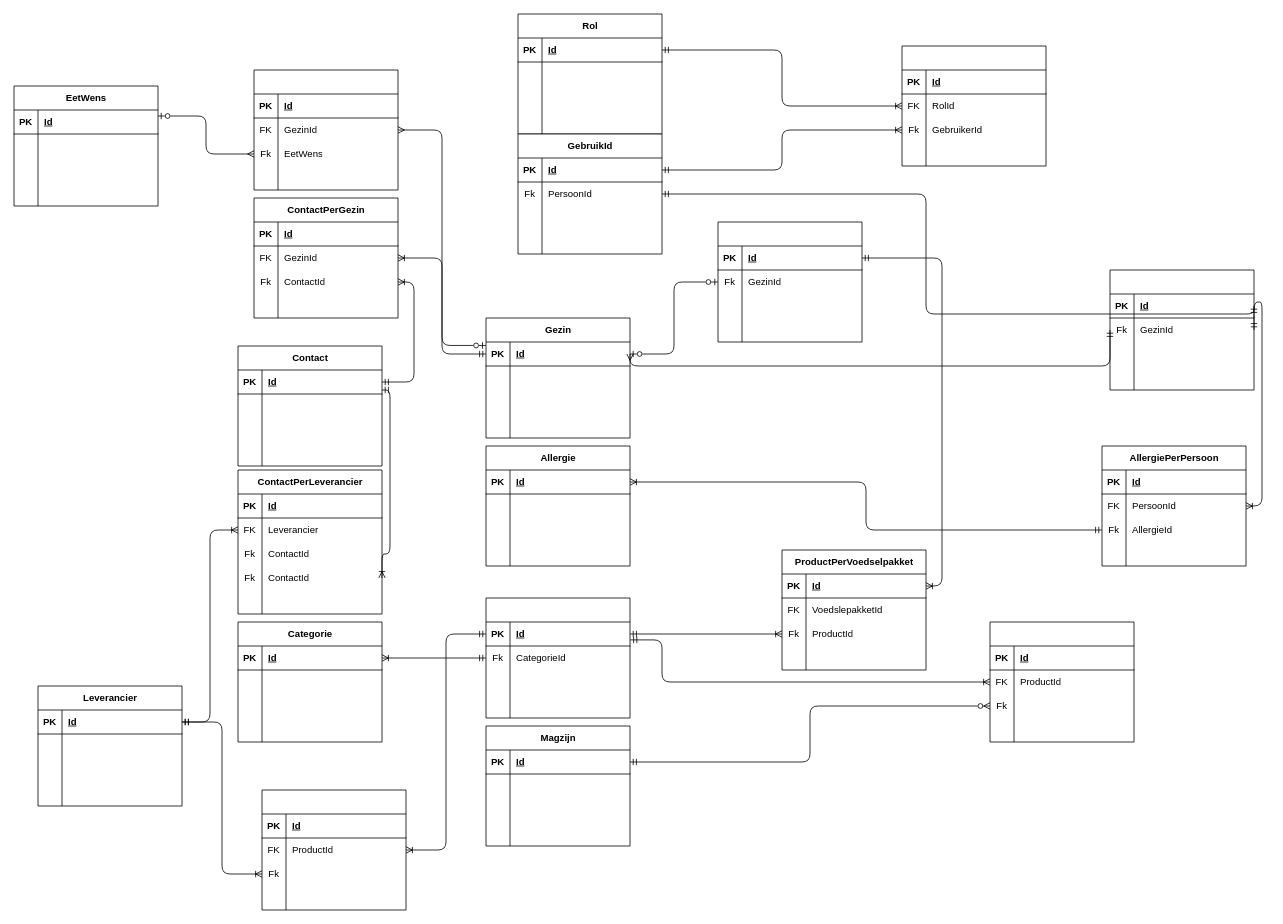
This 1283x924 diagram has some shape labels left out. The box of each missing label's shape, as (x1, y1, x2, y2) in pixels:
EetWensPerGezin: (253, 69, 398, 190)
Persoon: (1109, 269, 1254, 390)
Product: (485, 597, 630, 718)
ProductPerLeverancier: (261, 789, 406, 910)
ProductPerMagazijn: (989, 621, 1134, 742)
RolPerGebruiker: (901, 45, 1046, 166)
VoedselPakket: (717, 221, 862, 342)
